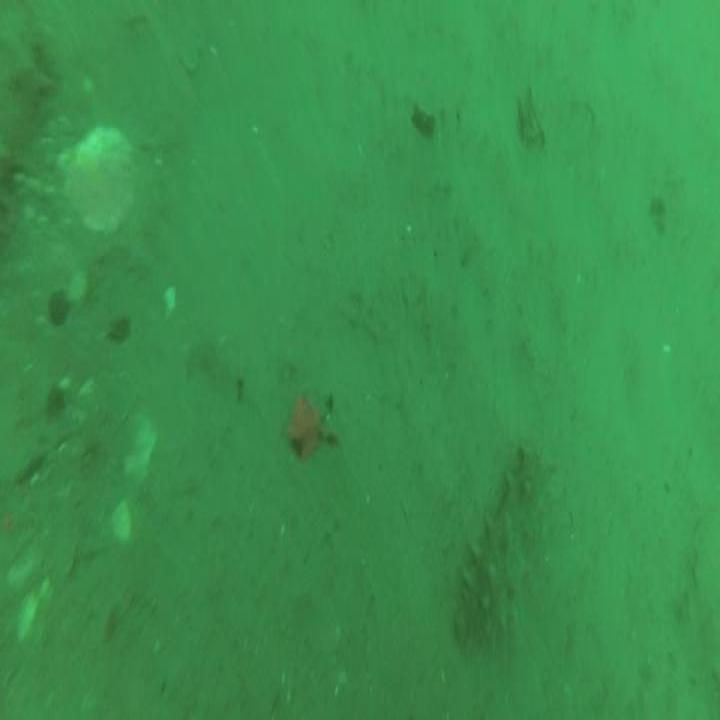holothurian: (456, 446, 555, 644)
scallop: (56, 126, 137, 236)
